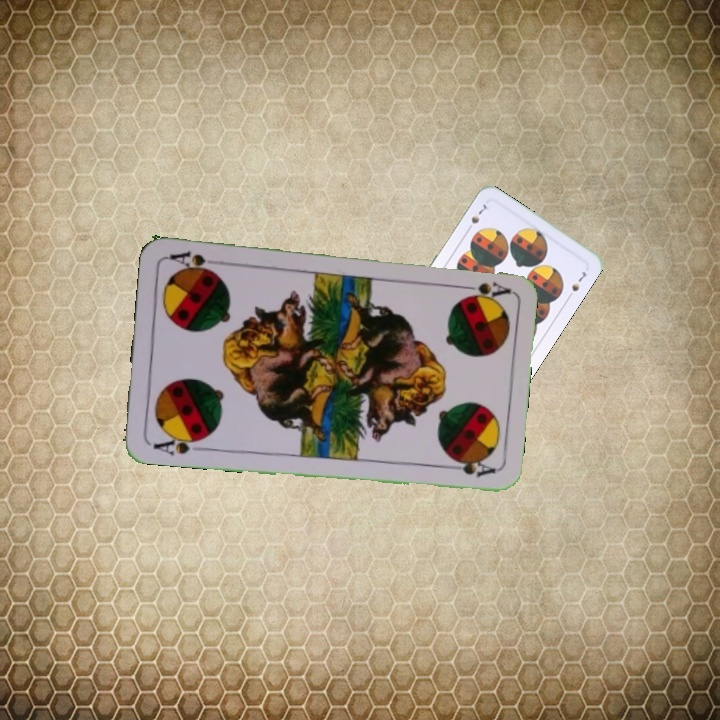S7: (462, 200, 492, 234)
SA: (148, 430, 208, 458), (453, 278, 512, 300)
